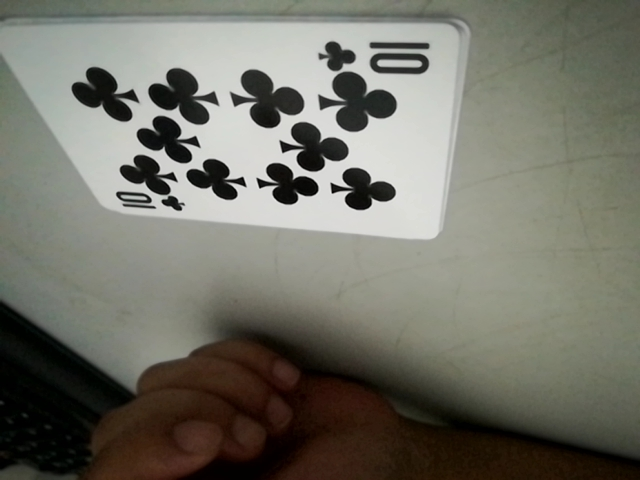mh 10: (317, 34, 443, 77), (109, 187, 184, 219)
